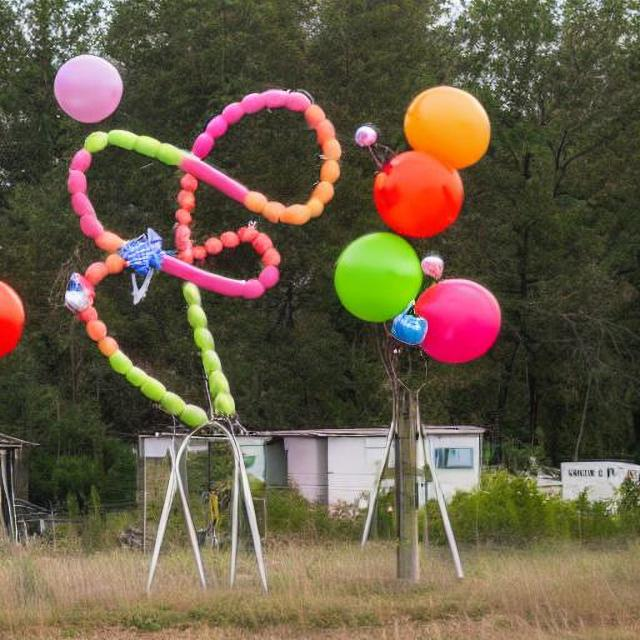balloon: (332, 85, 524, 362), (46, 54, 146, 124), (0, 266, 32, 366)
